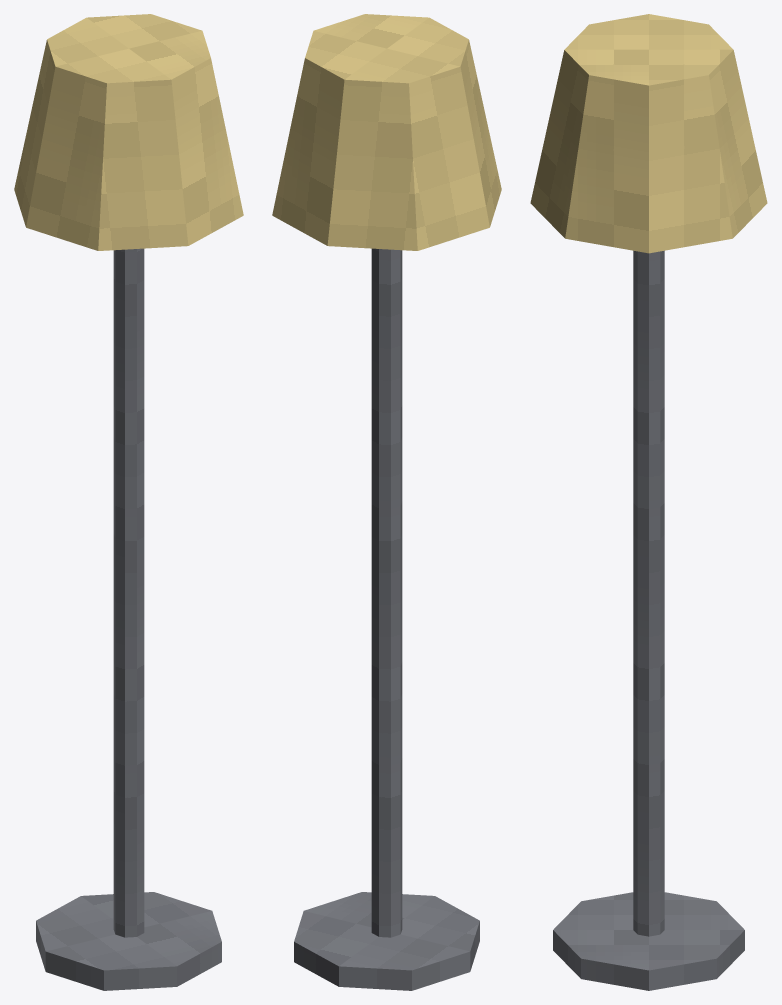
Rendered from pixel-modern-apartments-floor-lamp-44709035__29826.glb.
The picture shows the model from 3 angles, left to right: view 1: azimuth 30°, elevation 25°; view 2: azimuth 150°, elevation 25°; view 3: azimuth 270°, elevation 25°; orthographic projection.
Parts seen in each view (by area): view 1: floor-lamp; view 2: floor-lamp; view 3: floor-lamp.
Part boxes in pixels (<box>): floor-lamp: <box>14,14,243,990</box>; floor-lamp: <box>272,14,501,990</box>; floor-lamp: <box>530,14,767,990</box>.
Bounding box in the file's own units: 0.42 × 1.76 × 0.42.
Materials: 3 (3 with a texture image).
